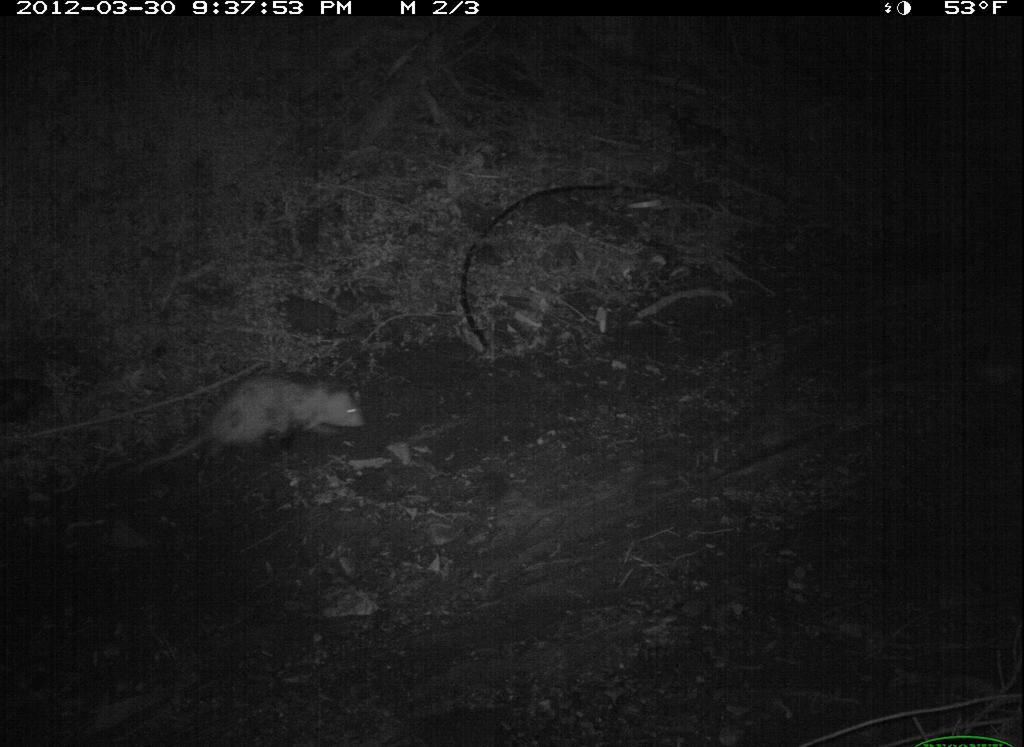opossum: (155, 370, 387, 475)
